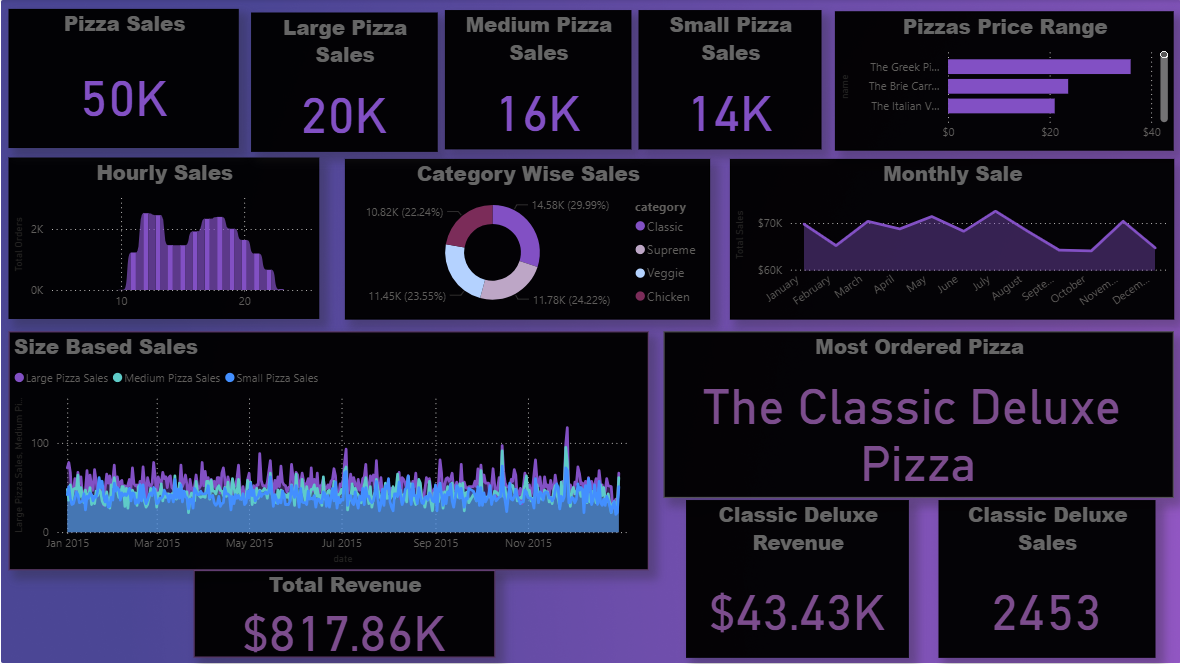

The dashboard page shown, as its layout file describes it:
{"tool":"powerbi","page":{"name":"Page 1","canvas":[1280,720],"ordinal":0},"visuals":[{"type":"ribbonChart","title":"Hourly Sales ","fields":{"Category":["orders.Order Hour"],"Y":["orders.Total Orders"]},"box":[9.5,171.9,335.6,174.6],"z":0},{"type":"card","title":"Pizza Sales ","fields":{"Values":["order_details.Totalpizzasales"]},"box":[9.5,10.8,249,150.2],"z":1000},{"type":"areaChart","title":"Size Based Sales ","fields":{"Category":["orders.date"],"Y":["order_details.Large Pizza Sales","order_details.Medium Pizza Sales","order_details.Small Pizza Sales"]},"box":[9.5,360,692.9,258.5],"z":2000},{"type":"donutChart","title":"Category Wise Sales ","fields":{"Category":["pizza_types.category"],"Y":["CountNonNull(order_details.order_id)"]},"box":[373.5,173.2,395.2,173.2],"z":3000},{"type":"barChart","title":"Pizzas Price Range","fields":{"Category":["pizza_types.name"],"Y":["Max(pizzas.price)"]},"box":[904,13.5,366.8,150.2],"z":4000},{"type":"areaChart","title":"Monthly Sale ","fields":{"Category":["orders.date.Variation.Date Hierarchy.Month"],"Y":["order_details.Total Sales"]},"box":[790.4,173.2,480.4,173.2],"z":5000},{"type":"card","title":"Large Pizza Sales","fields":{"Values":["order_details.Large Pizza Sales"]},"box":[272,14.9,201.7,150.2],"z":6000},{"type":"card","title":"Medium Pizza Sales ","fields":{"Values":["order_details.Medium Pizza Sales"]},"box":[481.8,12.2,201.7,150.2],"z":7000},{"type":"card","title":" Small Pizza Sales ","fields":{"Values":["order_details.Small Pizza Sales"]},"box":[691.6,12.2,197.6,150.2],"z":8000},{"type":"card","title":"Total Revenue ","fields":{"Values":["order_details.Total Sales"]},"box":[209.8,618.5,326.2,94.7],"z":9000},{"type":"card","title":"Most Ordered Pizza ","fields":{"Values":["order_details.Max Pizza Quantity"]},"box":[718.6,360,552.2,180],"z":10000},{"type":"card","title":" Classic Deluxe Revenue ","fields":{"Values":["order_details.Top Pizza Revenue"]},"box":[743,542.7,240.9,170.5],"z":10001},{"type":"card","title":"Classic Deluxe Sales ","fields":{"Values":["order_details.Top Pizza Quantity ordered"]},"box":[1016.4,542.7,234.1,170.5],"z":10002}]}

Visuals, with their boxes in screenshot pixels (x1, y1, x2, y2), scaled from the page's 1280x720 canvas onto the 1180x664 screenshot:
"Hourly Sales " ribbonChart: <region>9, 159, 318, 320</region>
"Pizza Sales " card: <region>9, 10, 238, 148</region>
"Size Based Sales " areaChart: <region>9, 332, 648, 570</region>
"Category Wise Sales " donutChart: <region>344, 160, 709, 319</region>
"Pizzas Price Range" barChart: <region>833, 12, 1172, 151</region>
"Monthly Sale " areaChart: <region>729, 160, 1172, 319</region>
"Large Pizza Sales" card: <region>251, 14, 437, 152</region>
"Medium Pizza Sales " card: <region>444, 11, 630, 150</region>
" Small Pizza Sales " card: <region>638, 11, 820, 150</region>
"Total Revenue " card: <region>193, 570, 494, 658</region>
"Most Ordered Pizza " card: <region>662, 332, 1172, 498</region>
" Classic Deluxe Revenue " card: <region>685, 500, 907, 658</region>
"Classic Deluxe Sales " card: <region>937, 500, 1153, 658</region>
